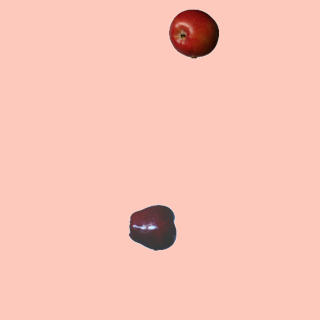Apple Braeburn: (168, 8, 218, 58)
Apple Red Delicious: (128, 202, 178, 252)
